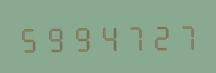five: (17, 21, 42, 54)
four: (95, 20, 120, 52)
nine: (69, 20, 94, 53), (43, 21, 68, 53)
seven: (121, 19, 146, 52), (173, 18, 198, 51)
two: (147, 19, 172, 51)
